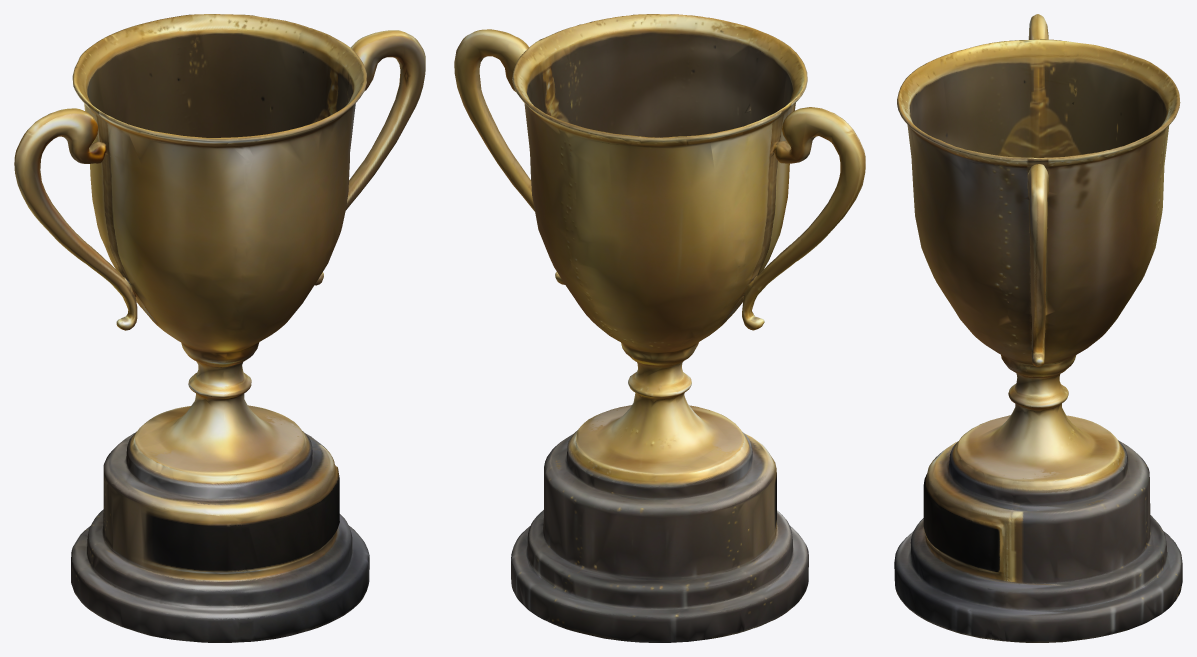
File: trophy.glb
3 renders of one model, left to right at view 1: azimuth 30°, elevation 25°; view 2: azimuth 150°, elevation 25°; view 3: azimuth 270°, elevation 25°, orthographic. The views are drawn at different scales.
Bounding box in the file's own units: 1.69 × 2 × 1.07.
Materials: 1 (1 with a texture image).
